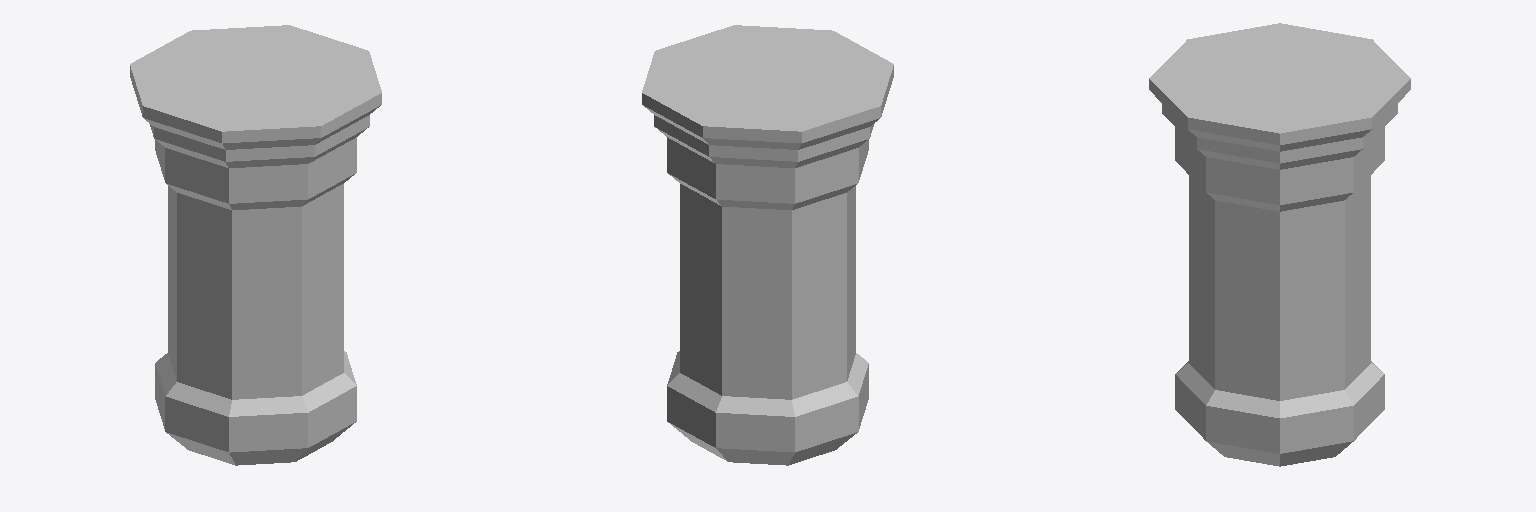
Rendered from Structure_Wall_Inner_Joint_Top.obj.
3 renders of one model, left to right at view 1: azimuth 30°, elevation 25°; view 2: azimuth 150°, elevation 25°; view 3: azimuth 270°, elevation 25°, orthographic.
Visible parts, largest first — view 1: object1; view 2: object1; view 3: object1.
Boxes of the visible parts, x1,y1,x2,y2 form: object1: [130, 25, 381, 465]; object1: [642, 25, 893, 465]; object1: [1149, 23, 1410, 466].
Size of the model in its own units: 0.2 by 0.3 by 0.2.